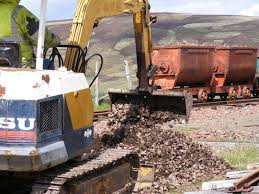excavator: (0, 3, 192, 193)
